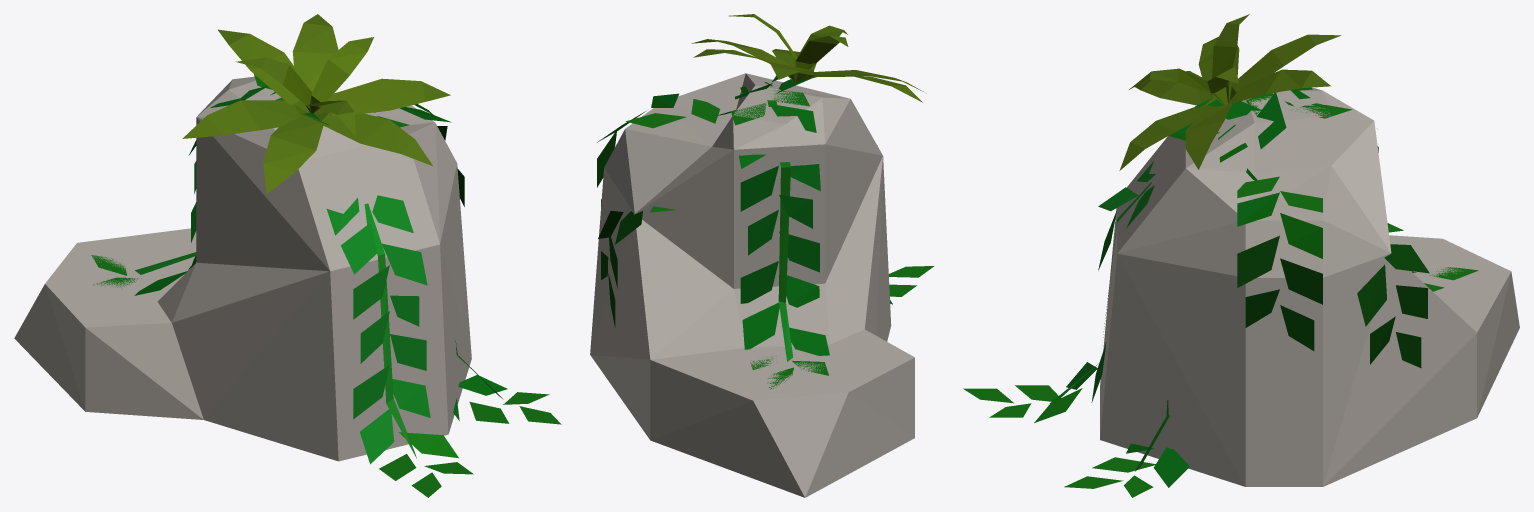
The model's file is mushyrock.fbx.
3 views of the same model, side by side, from view 1: azimuth 30°, elevation 25°; view 2: azimuth 150°, elevation 25°; view 3: azimuth 270°, elevation 25° (orthographic). The views are drawn at different scales.
Visible parts, largest first — view 1: Object Rock 2024-03-15_19-02-03; view 2: Object Rock 2024-03-15_19-02-03; view 3: Object Rock 2024-03-15_19-02-03.
Part boxes in pixels (<box>): Object Rock 2024-03-15_19-02-03: <box>14,14,561,497</box>; Object Rock 2024-03-15_19-02-03: <box>590,14,934,497</box>; Object Rock 2024-03-15_19-02-03: <box>963,14,1519,497</box>.
Size of the model in its own units: 20000 by 18600 by 26000.
